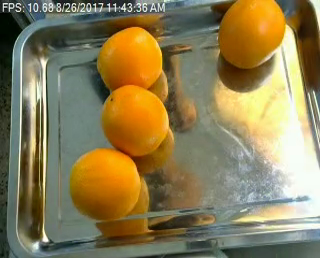Orange: (69, 148, 141, 220), (101, 84, 170, 156), (95, 25, 163, 97), (217, 1, 286, 69)
